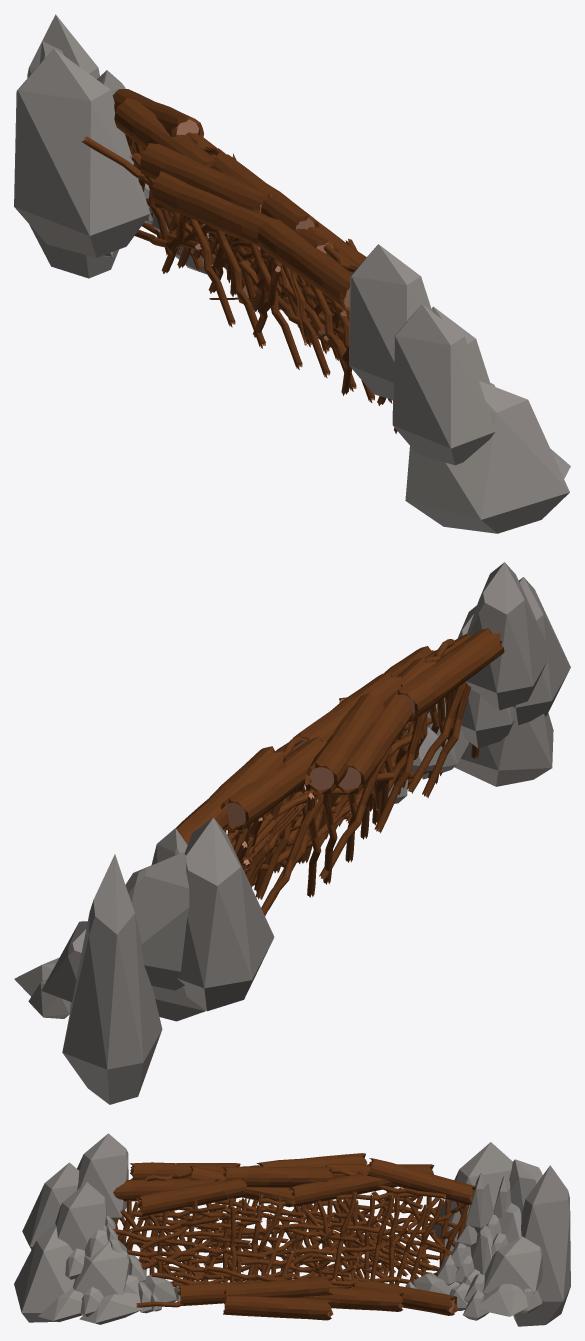
File: Dam lvl 2.fbx
The picture shows the model from 3 angles, top to bottom: view 1: azimuth 30°, elevation 25°; view 2: azimuth 150°, elevation 25°; view 3: azimuth 270°, elevation 25°; orthographic projection. The views are drawn at different scales.
Visible parts, largest first — view 1: Cylinder.155; view 2: Cylinder.155; view 3: Cylinder.155.
Part boxes in pixels (x1,y1,x2,y2): Cylinder.155: [14, 14, 570, 533]; Cylinder.155: [14, 562, 570, 1104]; Cylinder.155: [14, 1133, 570, 1326].
Bounding box in the file's own units: 1521 × 1861 × 5346.
